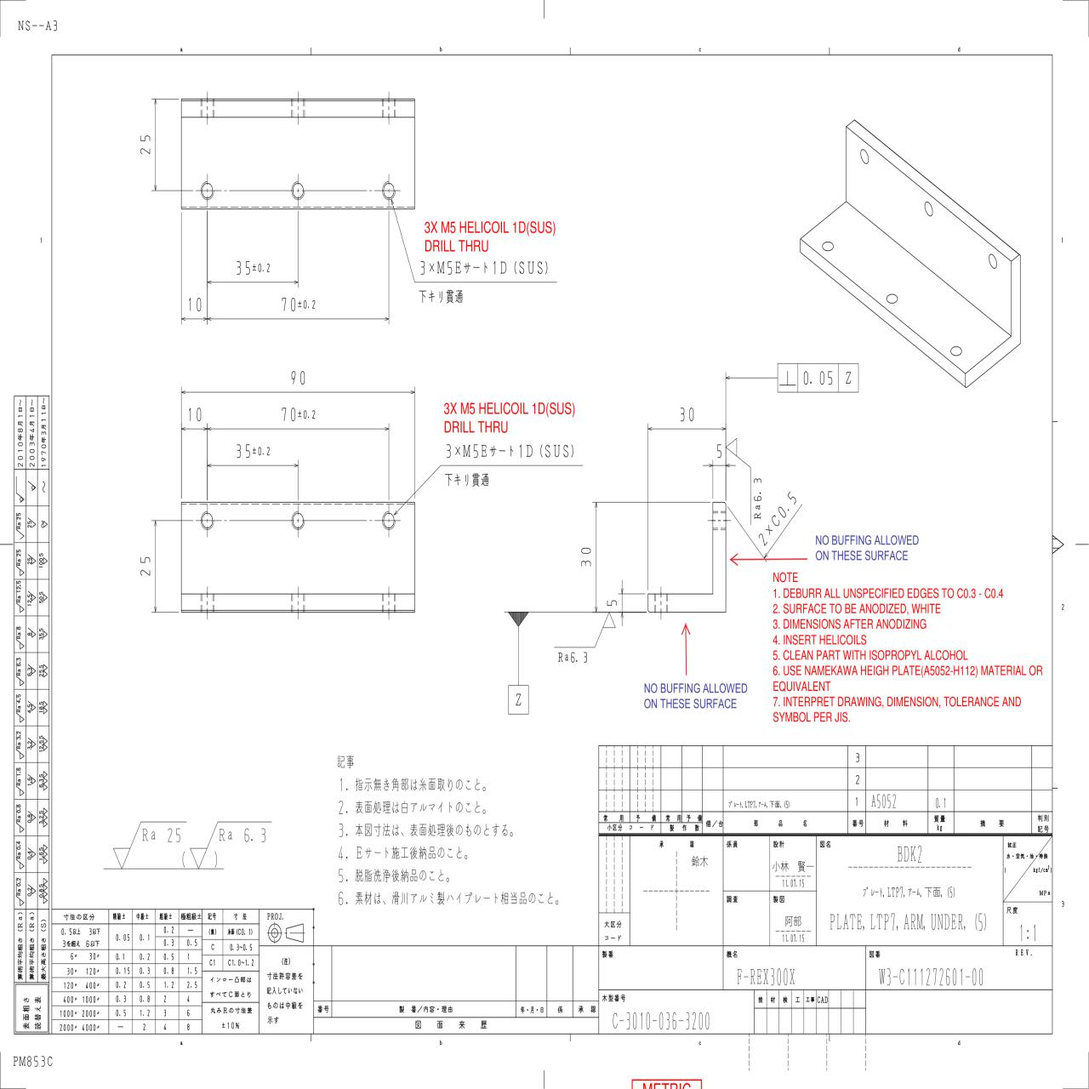basic_dimension: (803, 371, 834, 386), (679, 406, 694, 423), (140, 555, 151, 577), (581, 546, 592, 568), (140, 135, 151, 156), (291, 370, 306, 385), (189, 407, 203, 422), (189, 297, 202, 313), (606, 598, 618, 607), (716, 443, 723, 458)
datum_symbol: (507, 612, 530, 715)
dimension_chamfer_symbol: (769, 490, 798, 528)
dimension_chamfer_text: (777, 490, 798, 519)
dimension_metric_symbol: (436, 259, 453, 276), (462, 443, 479, 459)
dimension_metric_text: (472, 443, 479, 459), (446, 261, 452, 275)
explicit_tolerance_text: (236, 259, 269, 277), (281, 406, 316, 422), (281, 297, 316, 312), (236, 443, 270, 458)
gdt_frame_symbol: (776, 361, 861, 394)
gdt_perpendicularity_symbol: (779, 370, 796, 386)
surface_finish_symbol: (725, 438, 762, 526), (554, 611, 616, 663)
surface_finish_text: (753, 478, 762, 501), (571, 652, 587, 663)
